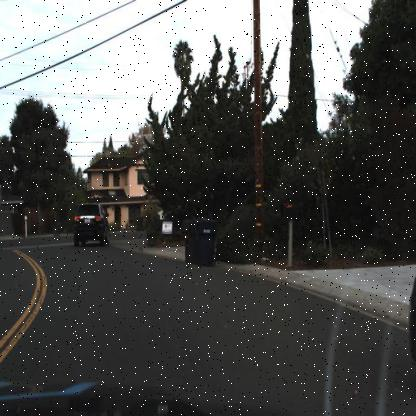car: (68, 197, 116, 250)
